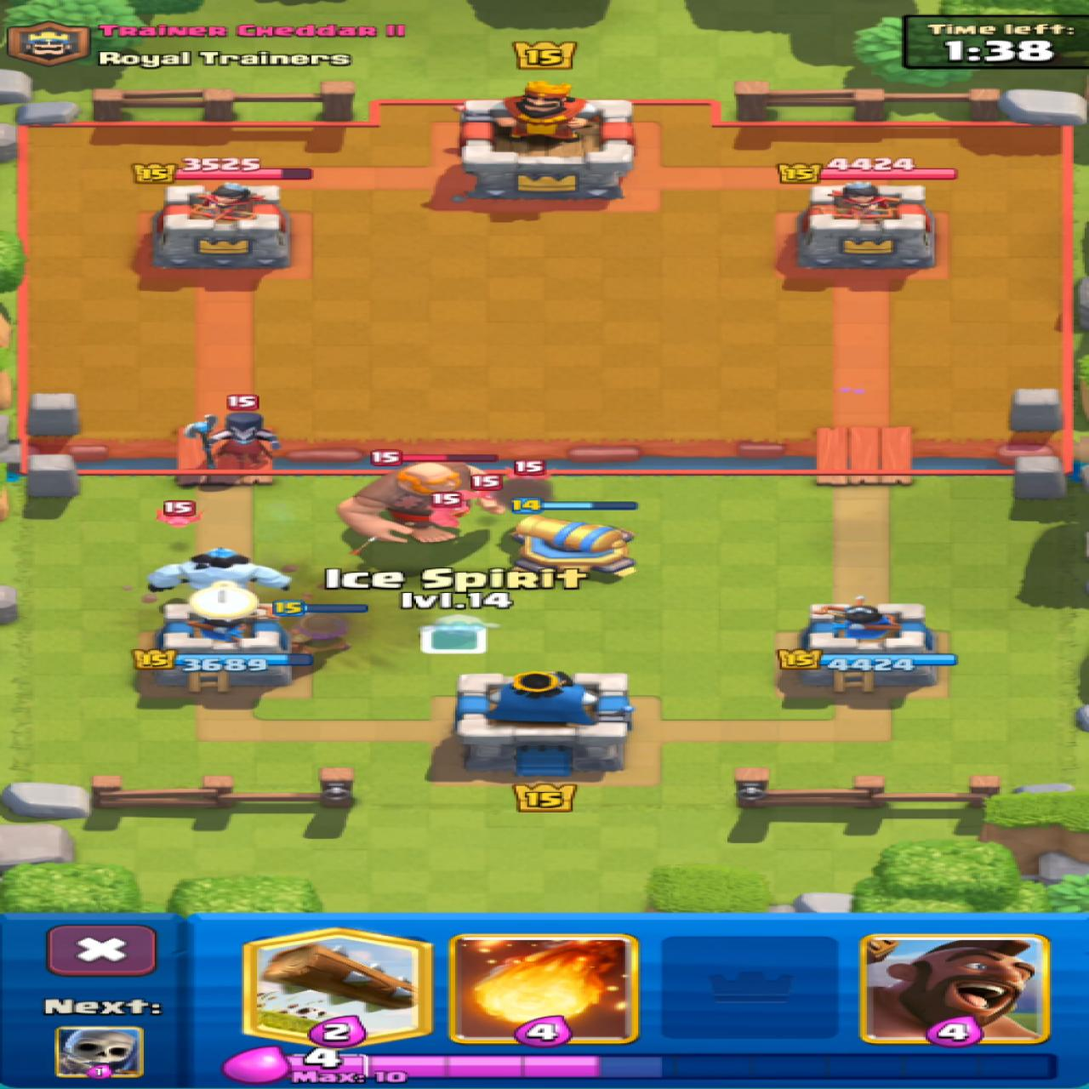Enemy-Bat: (431, 493, 481, 527), (157, 500, 200, 527), (462, 473, 503, 501)
Enemy-Giant: (340, 462, 479, 542)
Enemy-KingTower: (457, 82, 634, 201)
Enemy-NightWitch: (185, 396, 277, 466)
Enemy-PrincessTower: (152, 182, 290, 267), (797, 182, 932, 268)
